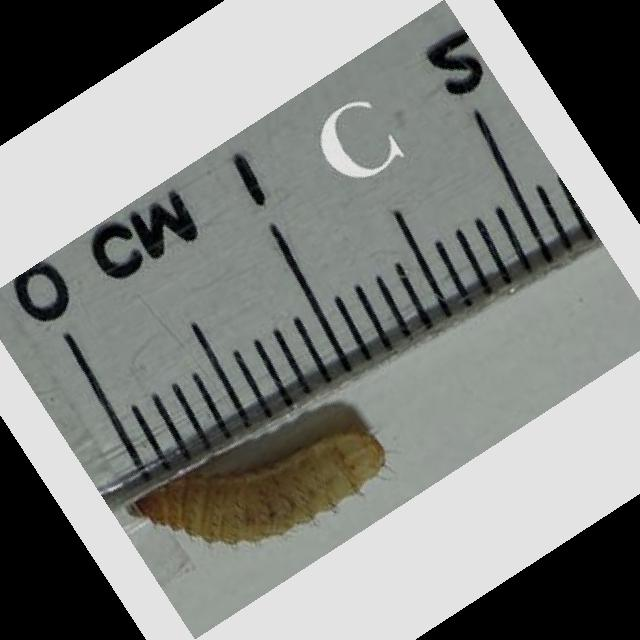Maggot: (122, 429, 389, 543)
